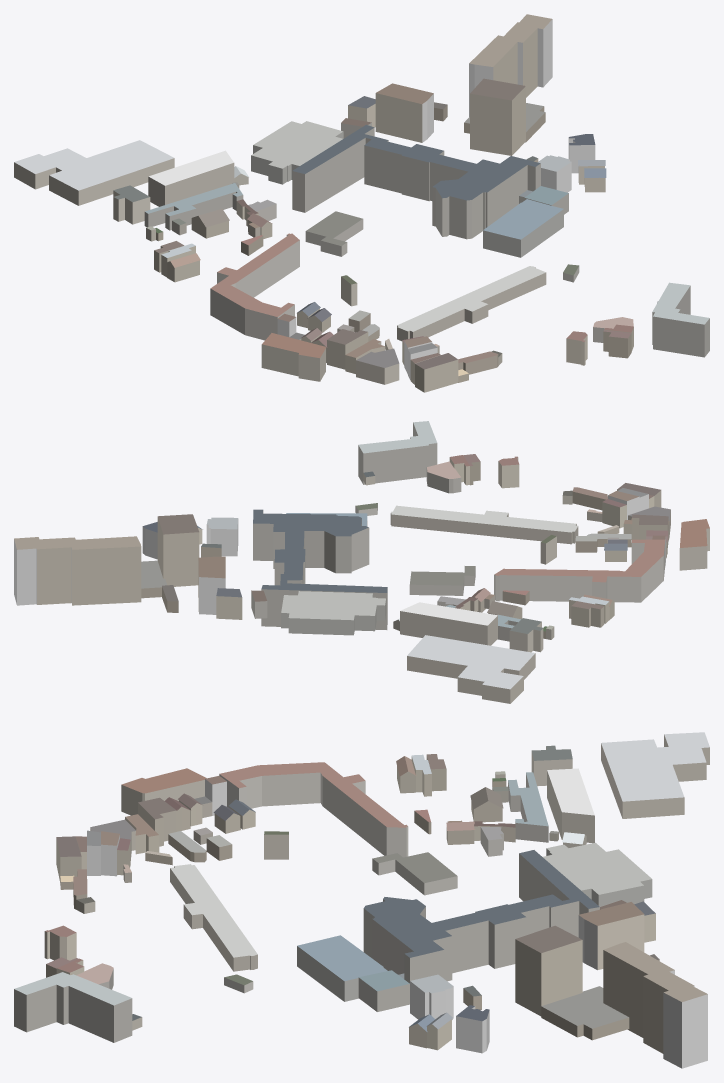
3 views of the same model, one above another, from view 1: azimuth 30°, elevation 25°; view 2: azimuth 150°, elevation 25°; view 3: azimuth 270°, elevation 25° (orthographic). The views are drawn at different scales.
Visible parts, largest first — view 1: tuile; view 2: tuile; view 3: tuile.
Part boxes in pixels (left/top/right/bottom): tuile: left=14, top=14, right=709, bottom=392; tuile: left=14, top=421, right=709, bottom=703; tuile: left=14, top=732, right=709, bottom=1068.
Bounding box in the file's own units: 287 × 46.62 × 287.
